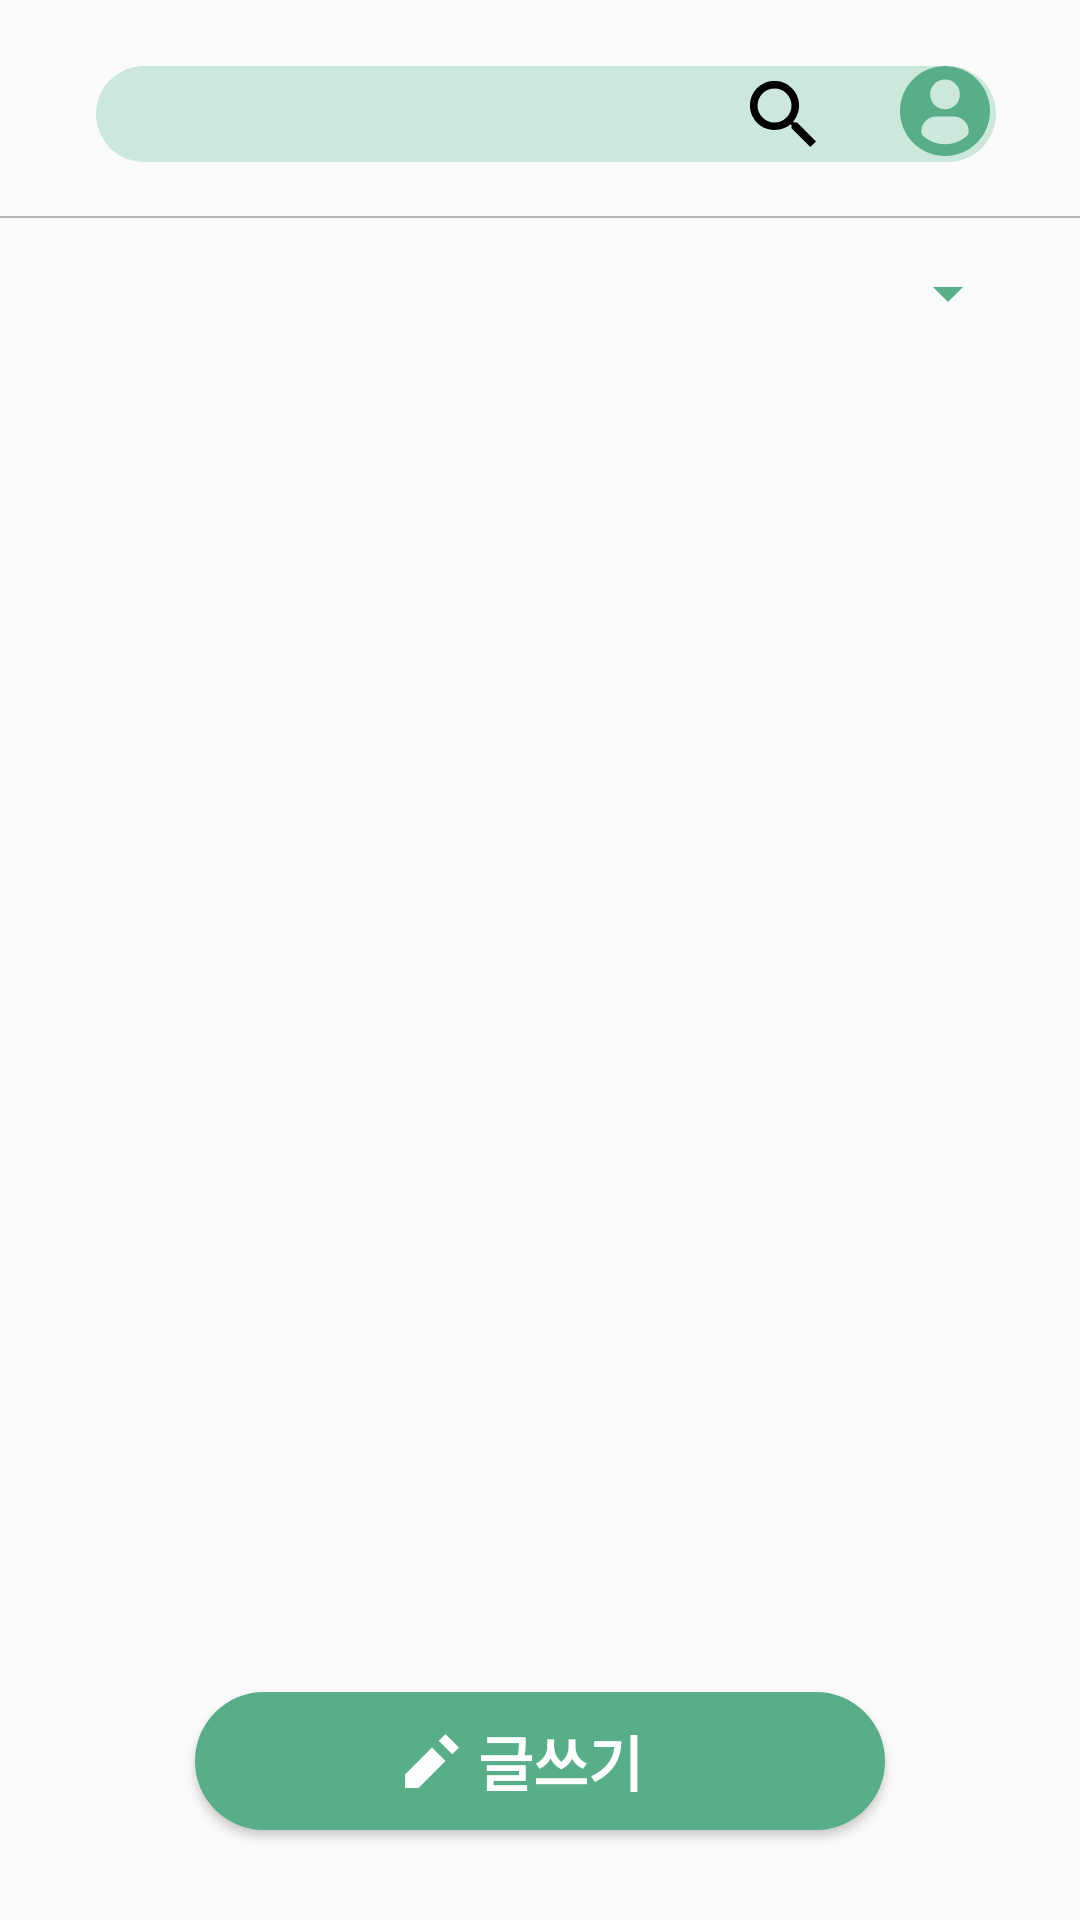

Icons on this 1080*1920 Android screen, each with the point to tap as [x,y]:
profile: [945,111]
search: [783,114]
